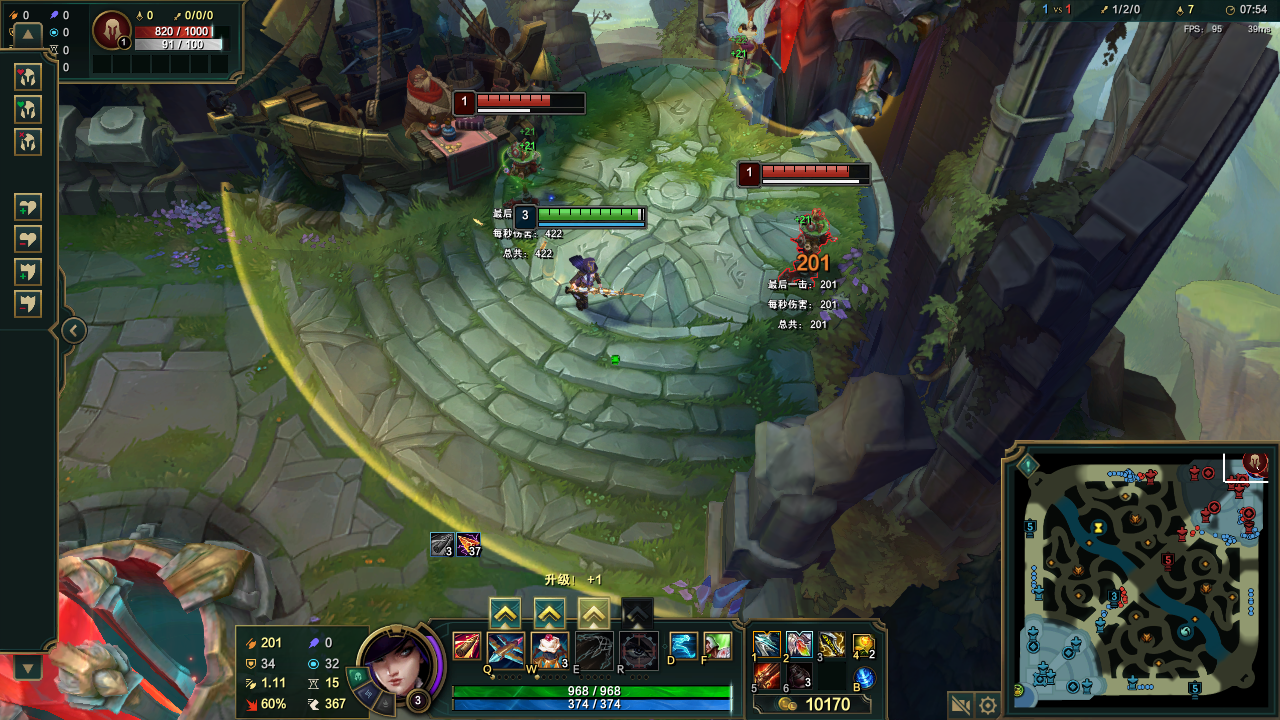DFYX: (761, 161, 874, 176), (477, 92, 588, 102)
